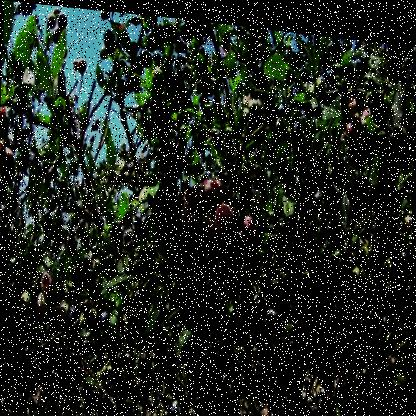intermediate: (215, 196, 239, 234), (1, 144, 18, 189), (215, 166, 232, 200), (1, 105, 14, 143), (345, 110, 357, 147), (204, 167, 215, 206), (43, 265, 56, 297), (243, 210, 258, 237), (74, 49, 88, 74), (358, 110, 374, 129), (347, 82, 361, 102), (361, 96, 375, 114)
mature: (162, 65, 180, 93), (266, 295, 280, 323), (183, 16, 196, 42), (104, 25, 117, 50), (158, 150, 171, 175), (155, 101, 171, 119), (84, 268, 97, 289), (102, 304, 110, 334), (300, 315, 314, 332), (60, 9, 69, 28), (278, 413, 293, 416)
young: (41, 290, 53, 322), (23, 286, 35, 317), (246, 86, 261, 108), (111, 306, 124, 331), (46, 7, 57, 34), (242, 87, 255, 109), (228, 306, 246, 321), (278, 107, 285, 127)
